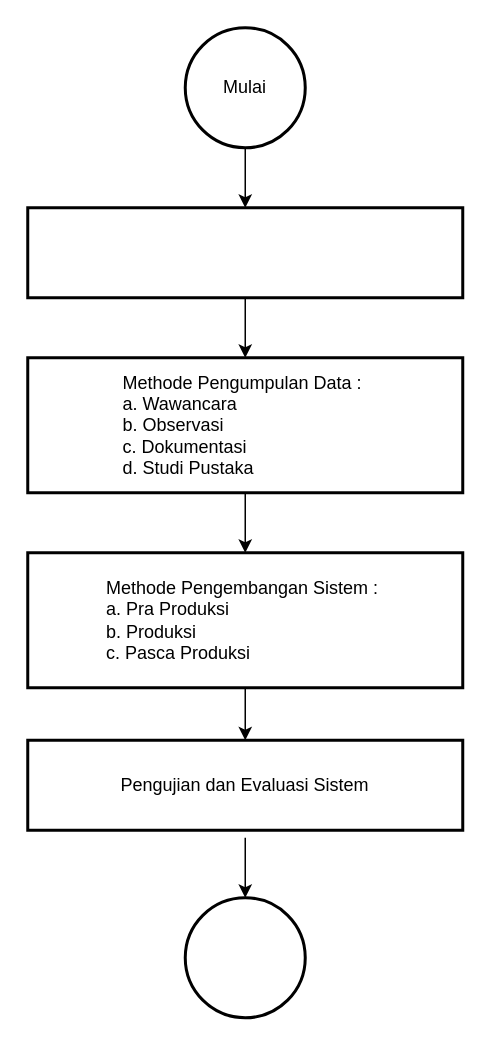
Image size: 489x1044. Some labels were removed from this diagram. Each missing label, with the centre of its shape:
"Identifikasi Masalah" belongs at (245,252).
"Selesai" belongs at (244,957).
